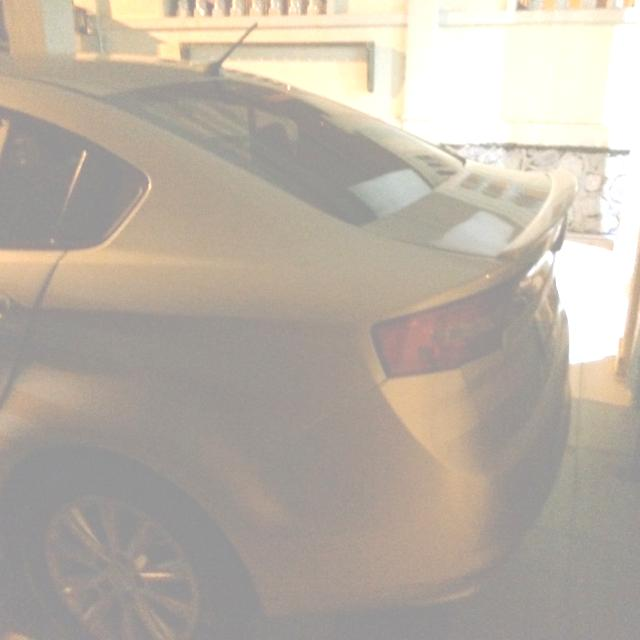Car: (4, 39, 575, 640)
